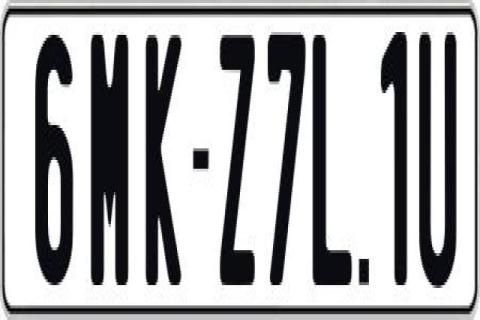0: (33, 26, 73, 294), (265, 32, 303, 285), (381, 32, 413, 296)
K: (144, 27, 184, 286)
L: (312, 26, 358, 288)
M: (90, 35, 128, 294)
U: (419, 29, 456, 299)
Z: (217, 35, 257, 299)
